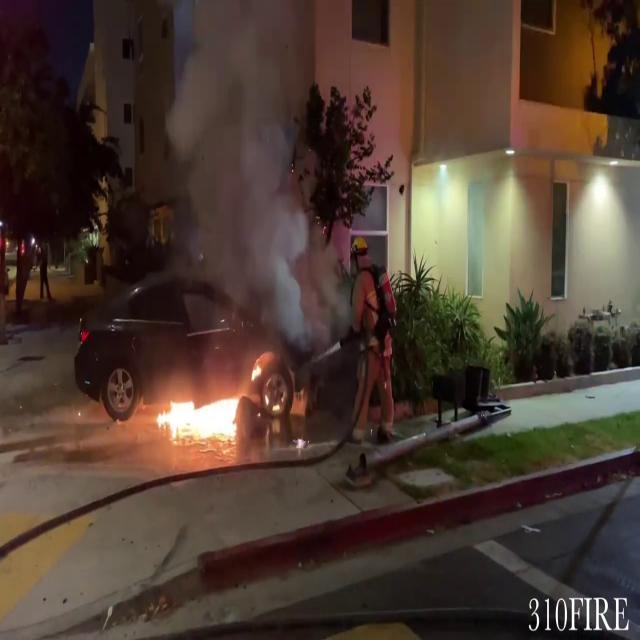Fire: (154, 382, 246, 449)
Smoke: (151, 1, 340, 340)
